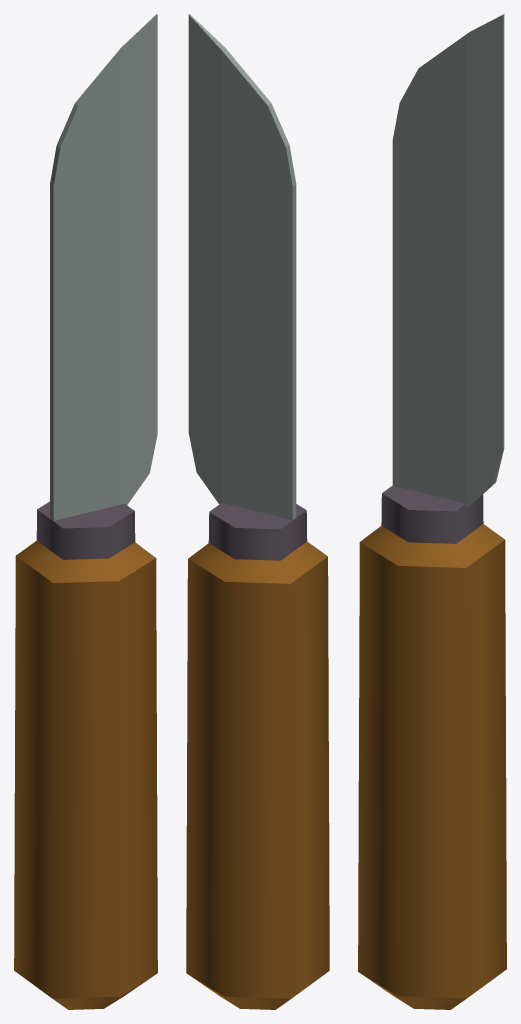
The model's file is pisau.fbx.
3 views of the same model, side by side, from view 1: azimuth 30°, elevation 25°; view 2: azimuth 150°, elevation 25°; view 3: azimuth 330°, elevation 25° (orthographic). The views are drawn at different scales.
Parts seen in each view (by area): view 1: pisau; view 2: pisau; view 3: pisau.
Boxes of the visible parts, left/top/right/bottom form: pisau: left=14, top=14, right=157, bottom=1009; pisau: left=186, top=14, right=329, bottom=1009; pisau: left=358, top=14, right=506, bottom=1009.
Size of the model in its own units: 9.91 by 74.52 by 9.48.
